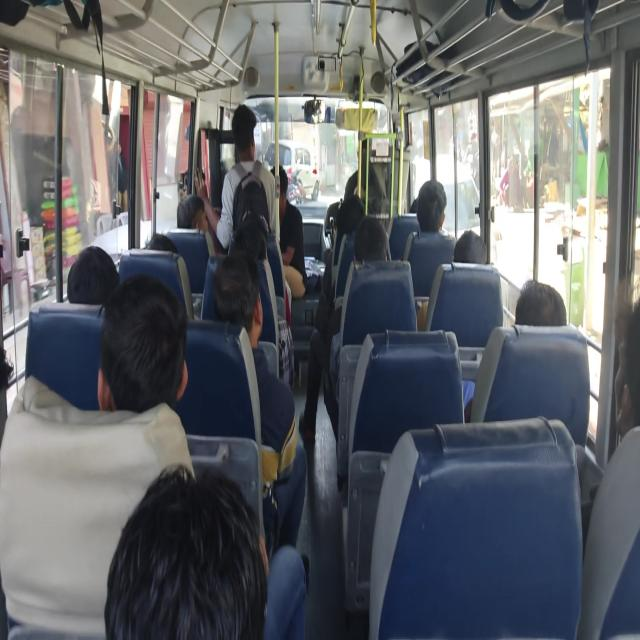person: (106, 465, 270, 638), (579, 286, 640, 632), (478, 281, 570, 432), (98, 273, 188, 417), (434, 230, 510, 376), (206, 80, 273, 192), (407, 183, 459, 297), (210, 251, 261, 341), (614, 283, 640, 444), (276, 167, 306, 292), (66, 244, 120, 306), (514, 279, 568, 328), (351, 214, 389, 266), (233, 212, 269, 264), (414, 179, 447, 234), (334, 193, 366, 243), (452, 228, 490, 267), (176, 192, 212, 232), (143, 233, 179, 256), (343, 172, 359, 200), (410, 196, 419, 214)
